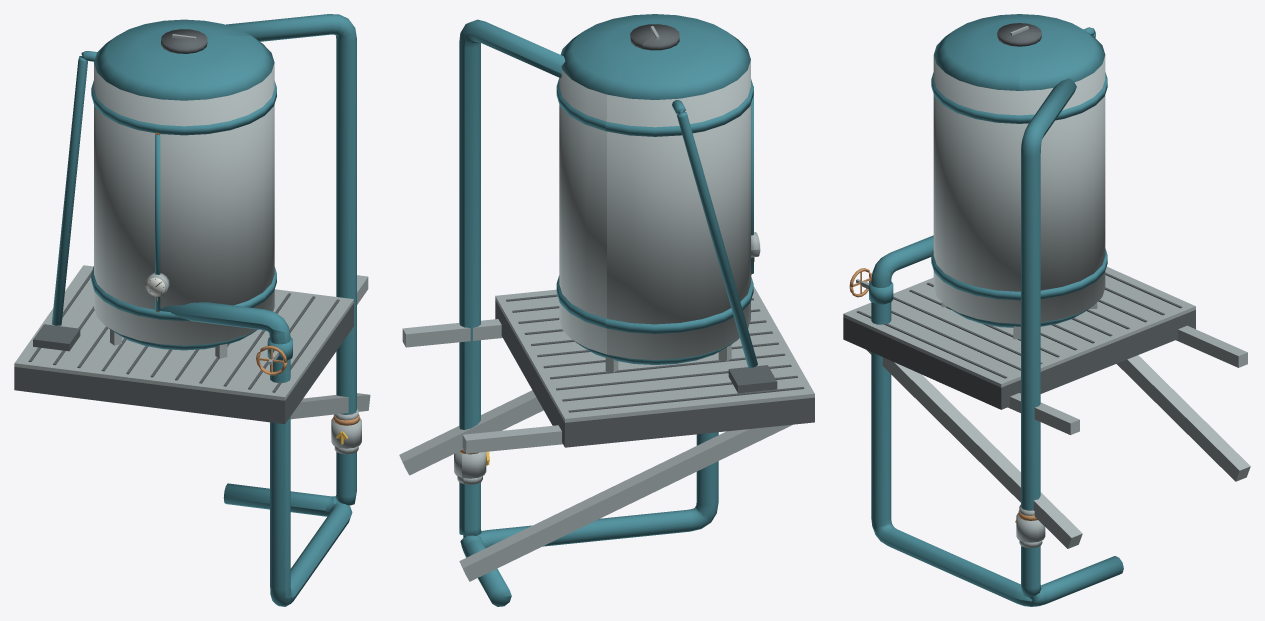
File: yokocho-upper-water-storage.glb
3 views of the same model, side by side, from view 1: azimuth 30°, elevation 25°; view 2: azimuth 150°, elevation 25°; view 3: azimuth 270°, elevation 25° (orthographic). The views are drawn at different scales.
Visible parts, largest first — view 1: Infrastructure/Boosters/UpperStorage__UtilityGalvanized, Infrastructure/Boosters/UpperStorage__UtilityWaterBlue, Infrastructure/Boosters/UpperStorage__Iron, Infrastructure/Boosters/UpperStorage__UtilityCopper; view 2: Infrastructure/Boosters/UpperStorage__UtilityGalvanized, Infrastructure/Boosters/UpperStorage__UtilityWaterBlue, Infrastructure/Boosters/UpperStorage__Iron; view 3: Infrastructure/Boosters/UpperStorage__UtilityGalvanized, Infrastructure/Boosters/UpperStorage__UtilityWaterBlue, Infrastructure/Boosters/UpperStorage__Iron.
Boxes of the visible parts, box(x1,y1,x2,y2) form: Infrastructure/Boosters/UpperStorage__UtilityGalvanized: box(14, 34, 370, 454); Infrastructure/Boosters/UpperStorage__UtilityWaterBlue: box(52, 14, 356, 606); Infrastructure/Boosters/UpperStorage__Iron: box(14, 29, 353, 424); Infrastructure/Boosters/UpperStorage__UtilityCopper: box(155, 132, 359, 425); Infrastructure/Boosters/UpperStorage__UtilityGalvanized: box(399, 26, 814, 581); Infrastructure/Boosters/UpperStorage__UtilityWaterBlue: box(459, 14, 757, 606); Infrastructure/Boosters/UpperStorage__Iron: box(495, 24, 814, 447); Infrastructure/Boosters/UpperStorage__UtilityGalvanized: box(843, 26, 1250, 548); Infrastructure/Boosters/UpperStorage__UtilityWaterBlue: box(869, 14, 1123, 606); Infrastructure/Boosters/UpperStorage__Iron: box(843, 23, 1195, 510).
Size of the model in its own units: 5.35 by 7.21 by 5.32.
